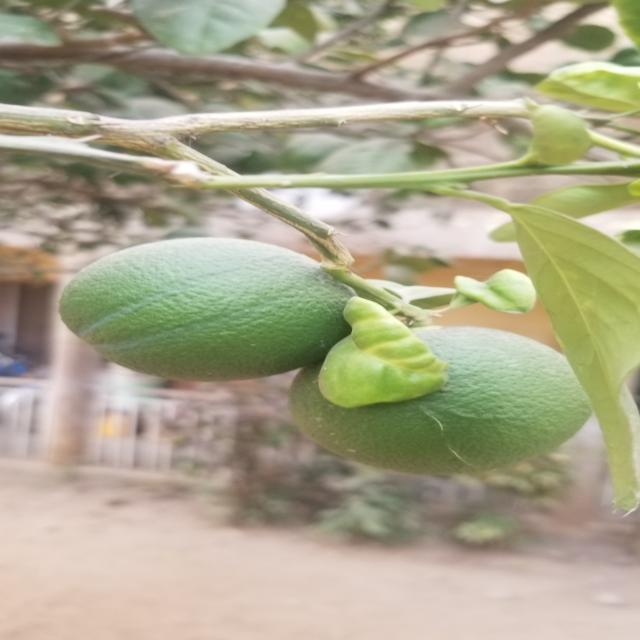Unripe: (39, 232, 366, 389), (297, 321, 598, 481)
